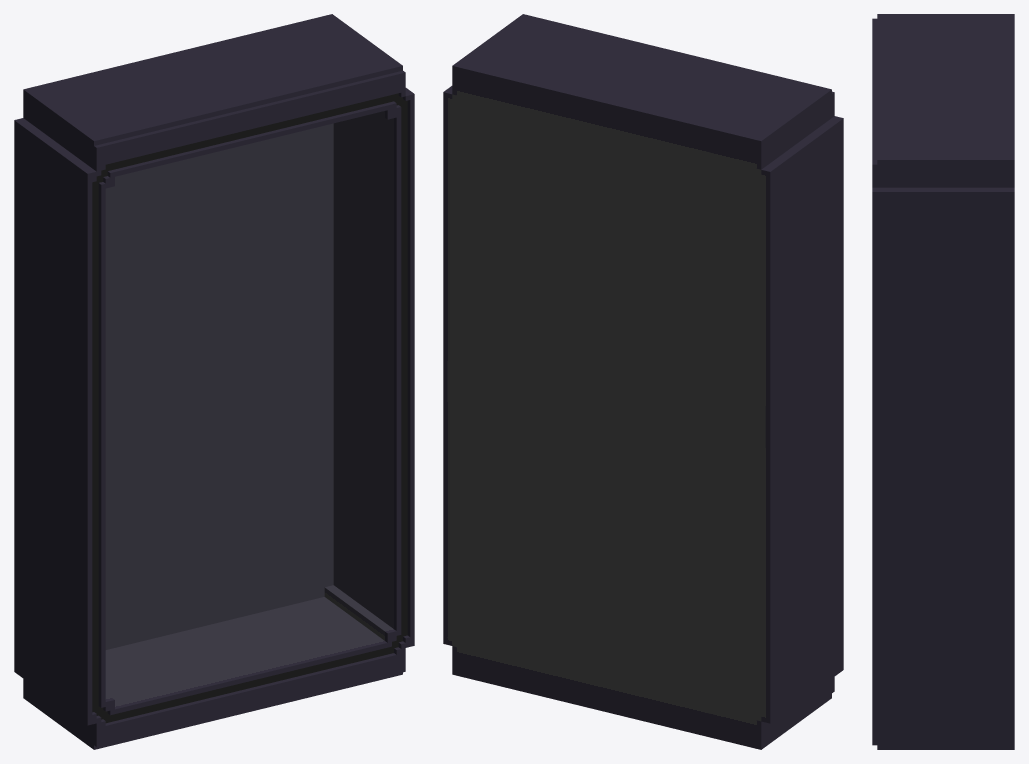
3 renders of one model, left to right at view 1: azimuth 30°, elevation 25°; view 2: azimuth 150°, elevation 25°; view 3: azimuth 270°, elevation 25°, orthographic. The views are drawn at different scales.
Visible parts, largest first — view 1: new_new_box_3; view 2: new_new_box_3; view 3: new_new_box_3.
Part boxes in pixels (x1,y1,x2,y2): new_new_box_3: [14, 14, 414, 749]; new_new_box_3: [443, 14, 843, 749]; new_new_box_3: [872, 14, 1014, 749].
Bounding box in the file's own units: 7.2 × 12.8 × 2.8.
Materials: 1 (1 with a texture image).
